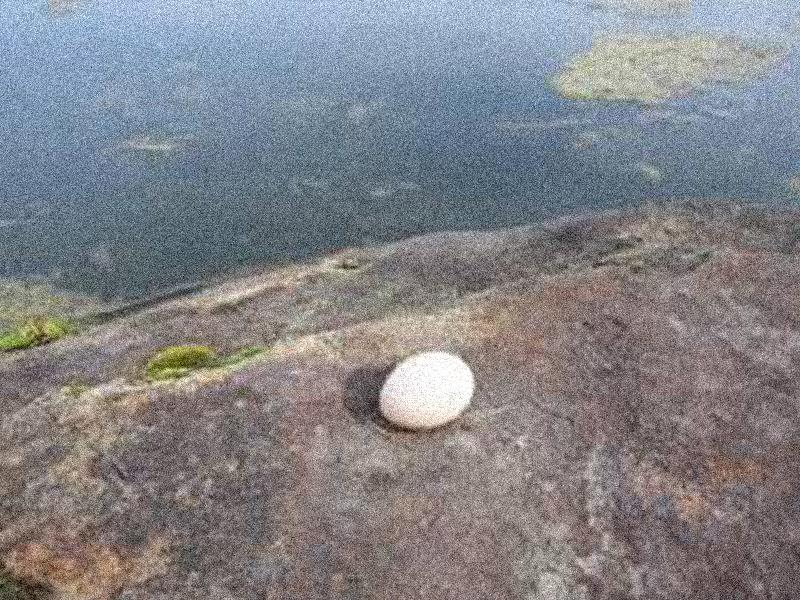Eggs: (380, 349, 479, 427)
